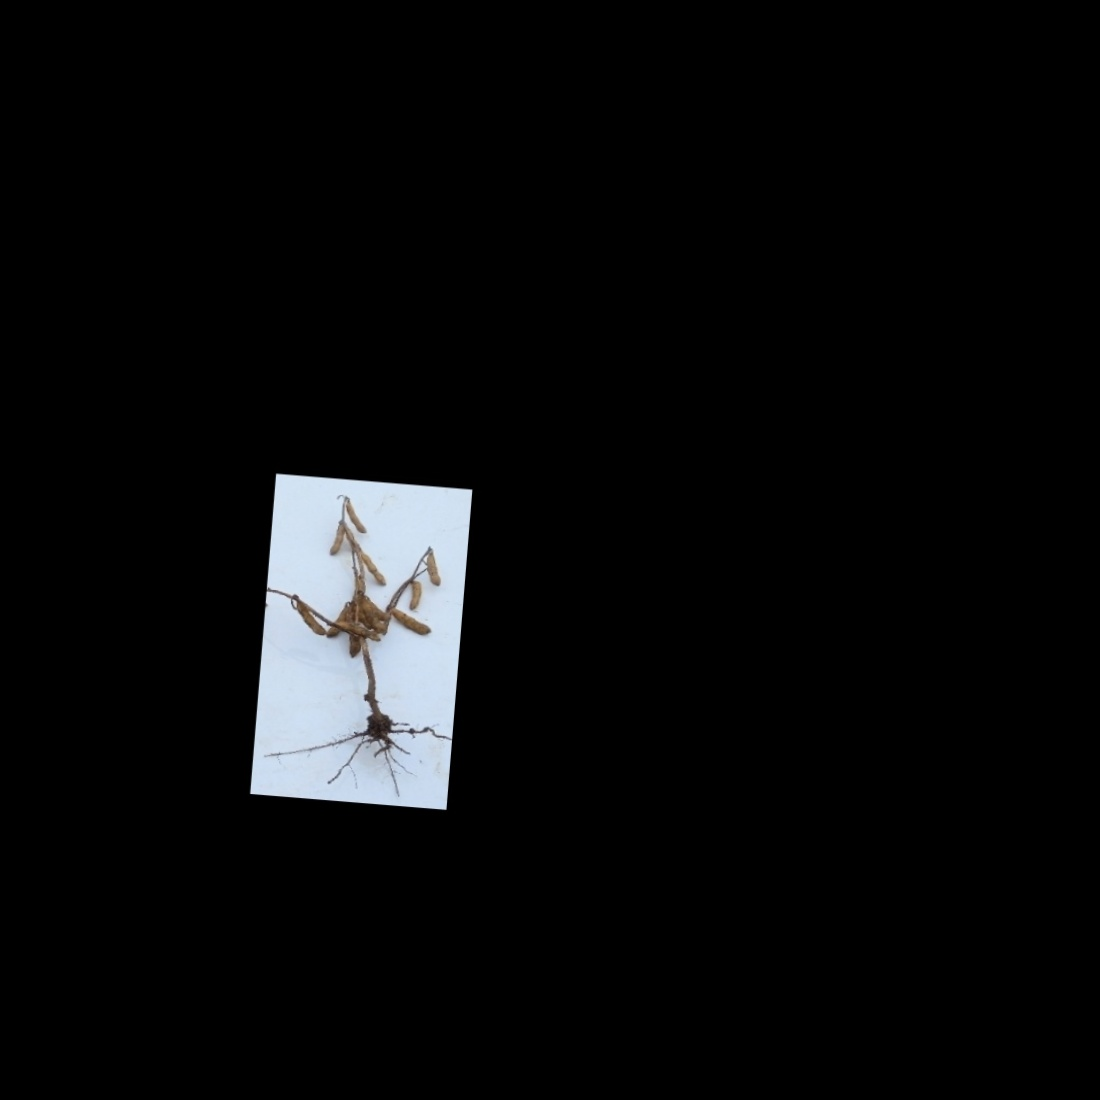pod: (389, 607, 434, 638), (356, 549, 391, 587), (341, 500, 372, 534), (423, 549, 445, 589), (326, 524, 346, 556), (343, 633, 363, 659)
soy: (269, 489, 463, 791)
